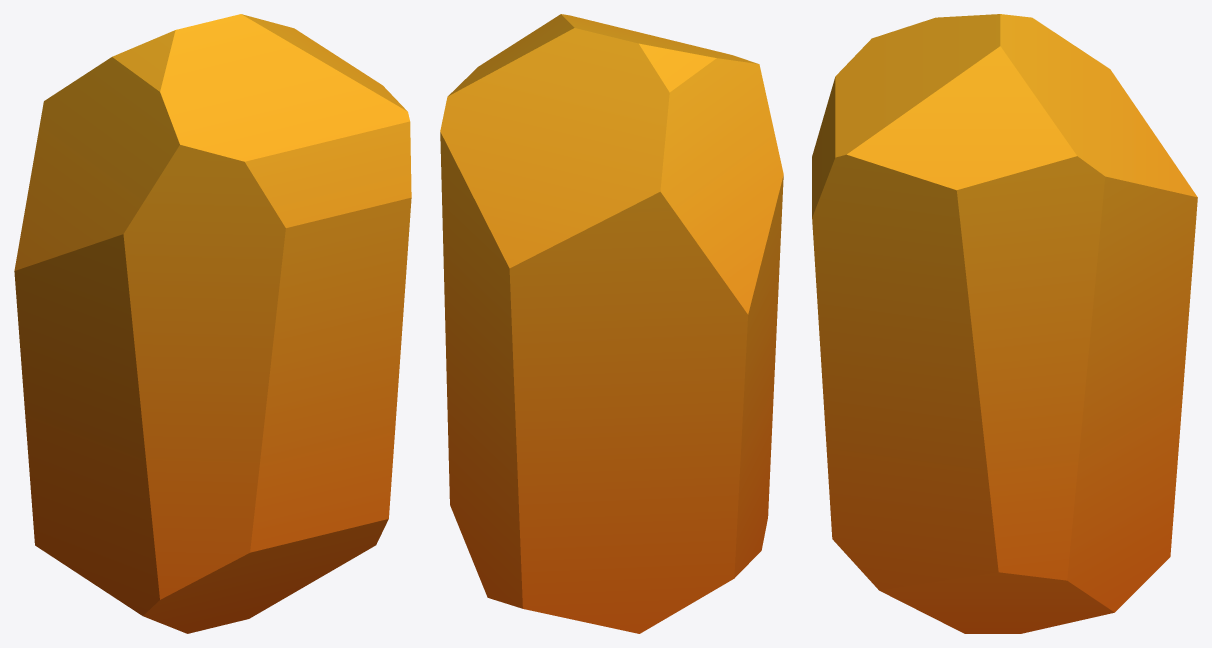
The model's file is Crystal_08.fbx.
The picture shows the model from 3 angles, left to right: view 1: azimuth 30°, elevation 25°; view 2: azimuth 150°, elevation 25°; view 3: azimuth 270°, elevation 25°; orthographic projection. The views are drawn at different scales.
Visible parts, largest first — view 1: Crystal_08; view 2: Crystal_08; view 3: Crystal_08.
Part boxes in pixels (x1,y1,x2,y2): Crystal_08: (14,14,411,633); Crystal_08: (440,14,783,633); Crystal_08: (812,14,1197,633).
Size of the model in its own units: 0.7325 by 1.28 by 0.7561.
